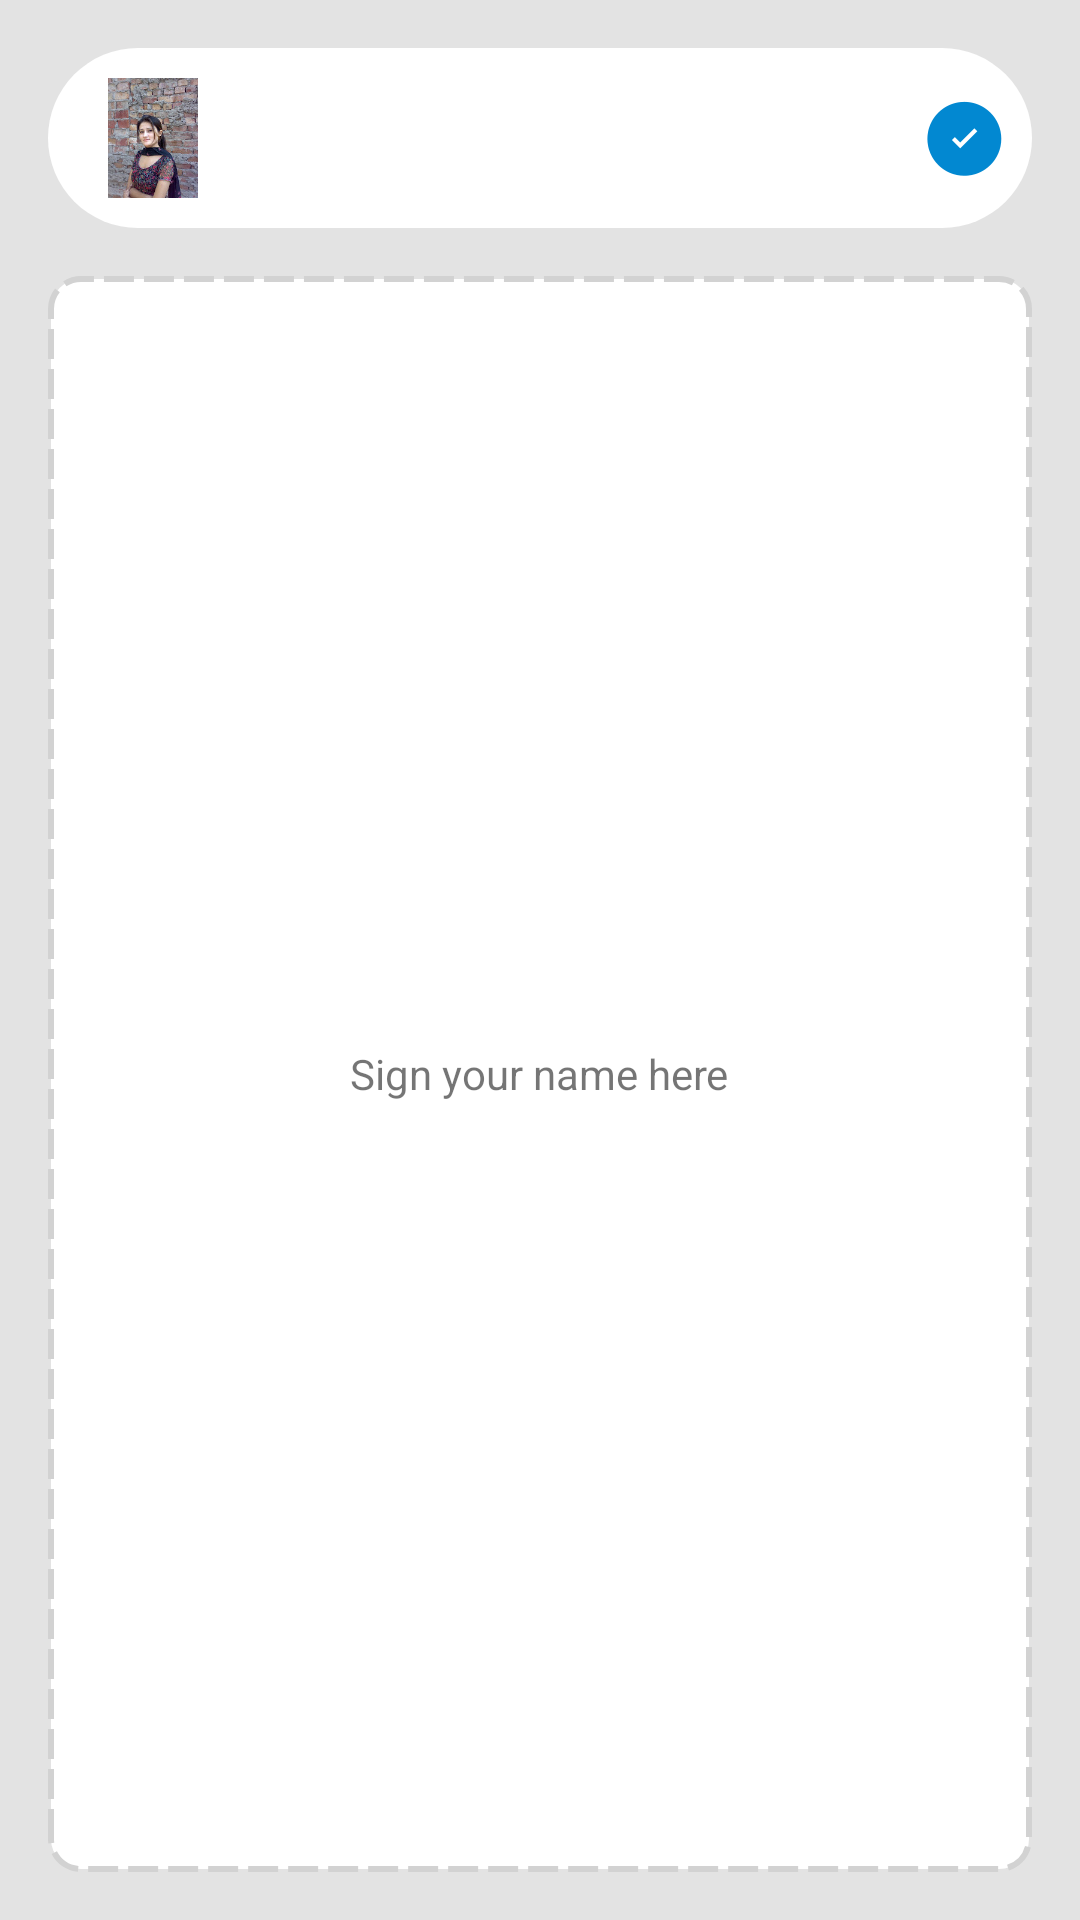

Named icons in this screenshot (1080 × 1920) and their centers, (x=x, y=y):
sign done: (x=964, y=138)
